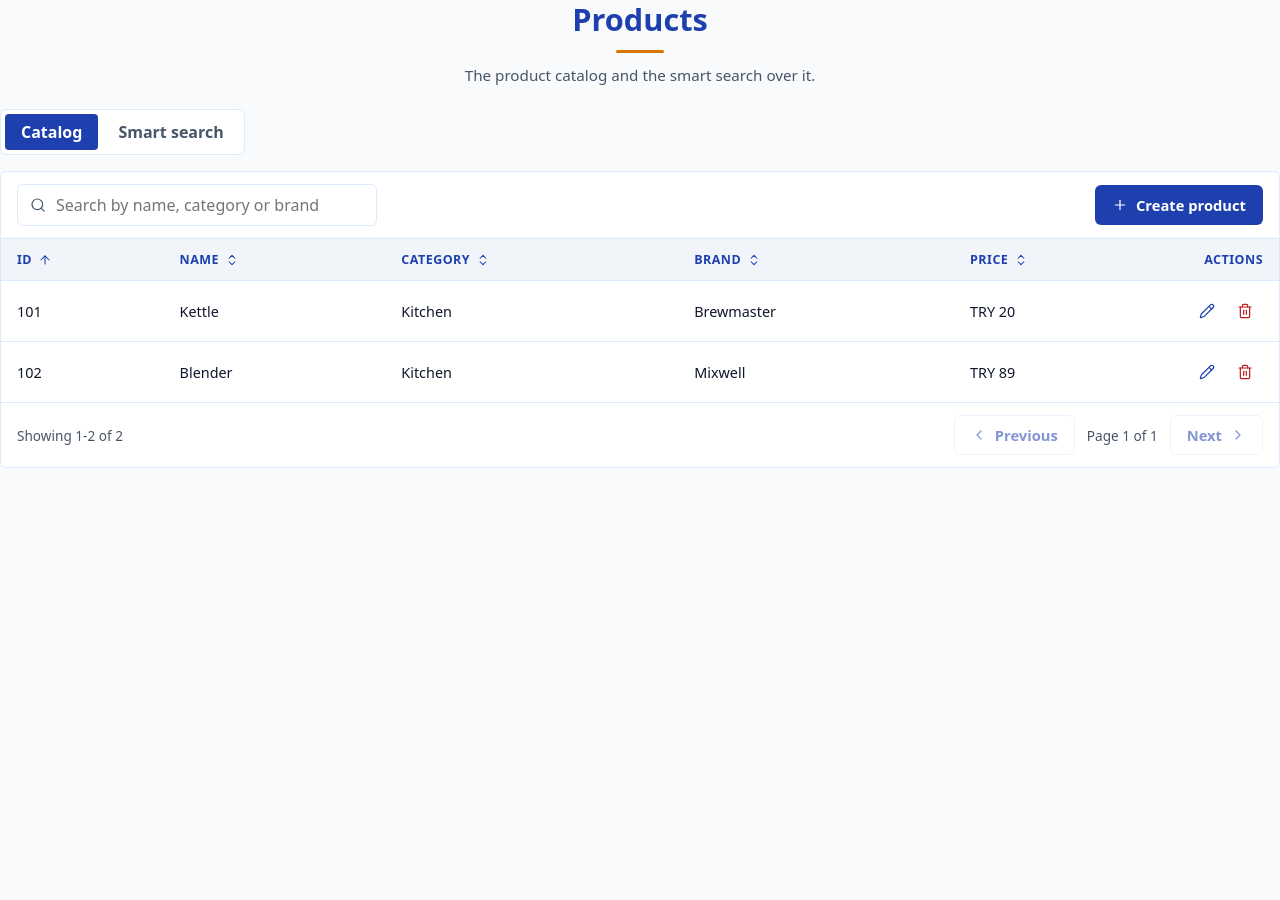
it: deleting a product that is in orders shows the clear conflict message
Click the button named "Delete product" in the row of "101" at (1245,311), box [1227,293,1263,329]
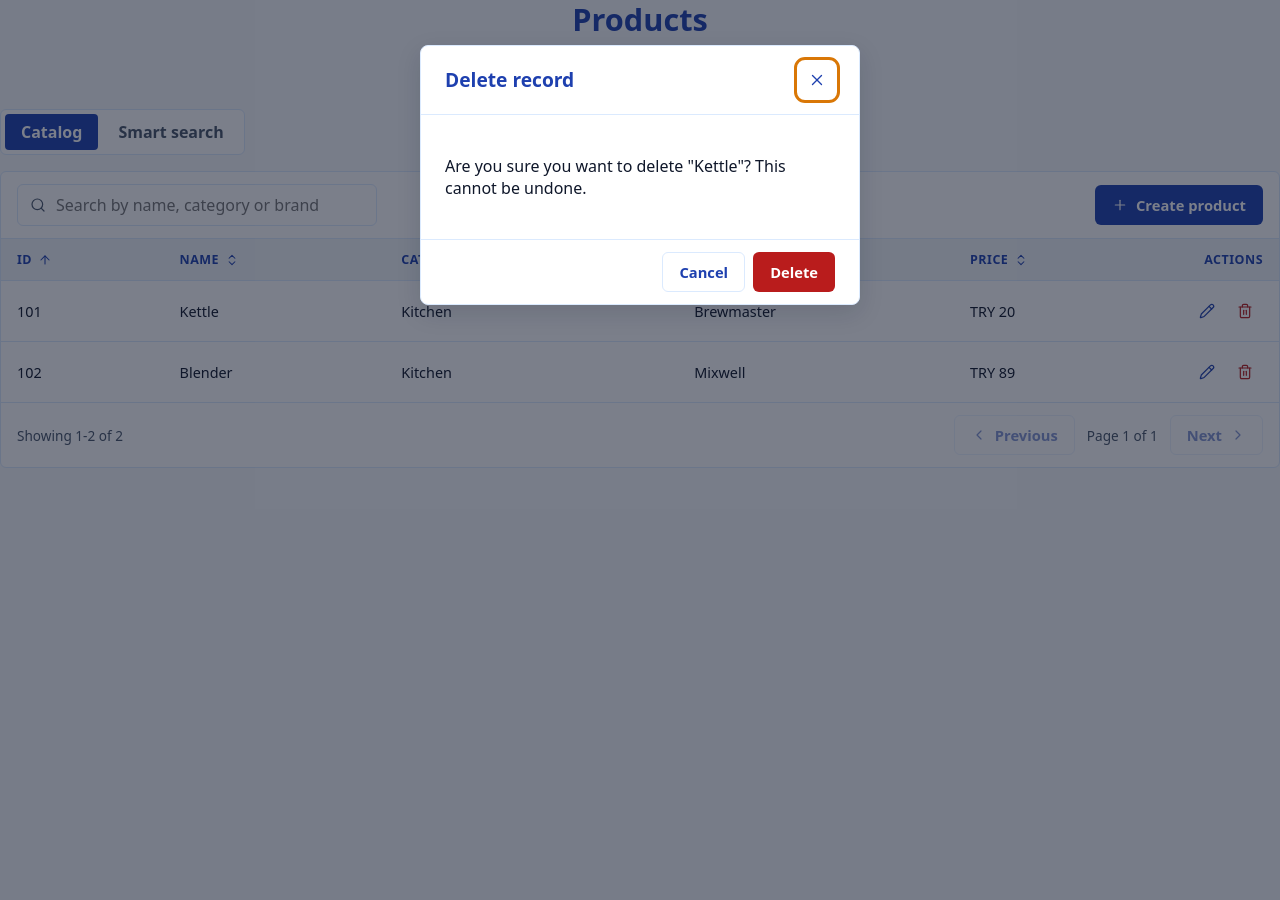
Click the button "Delete" at (794,272), box [753,252,835,292]
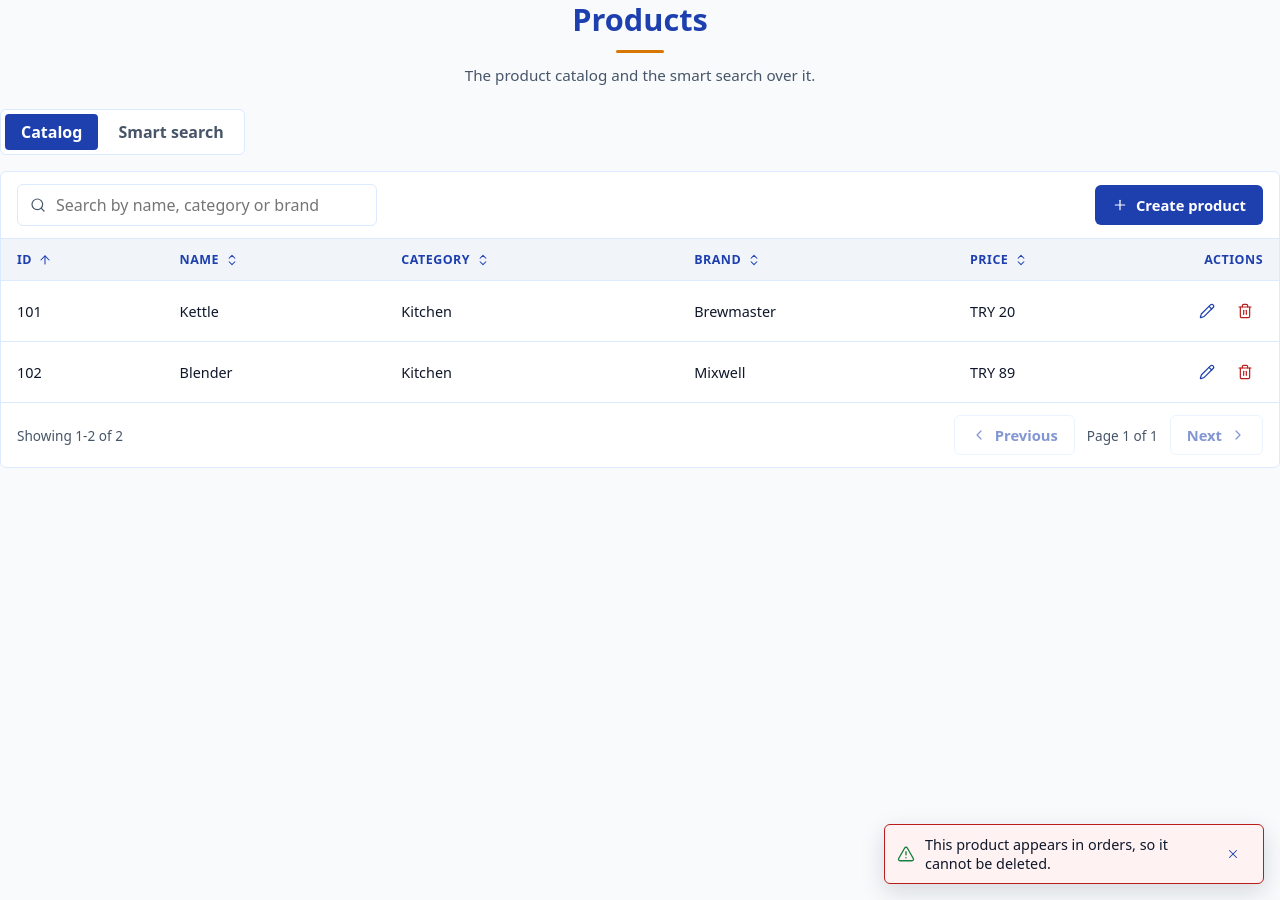
Expected: the text "This product appears in orders, so it cannot be deleted." is shown, [925,835,1205,873]
